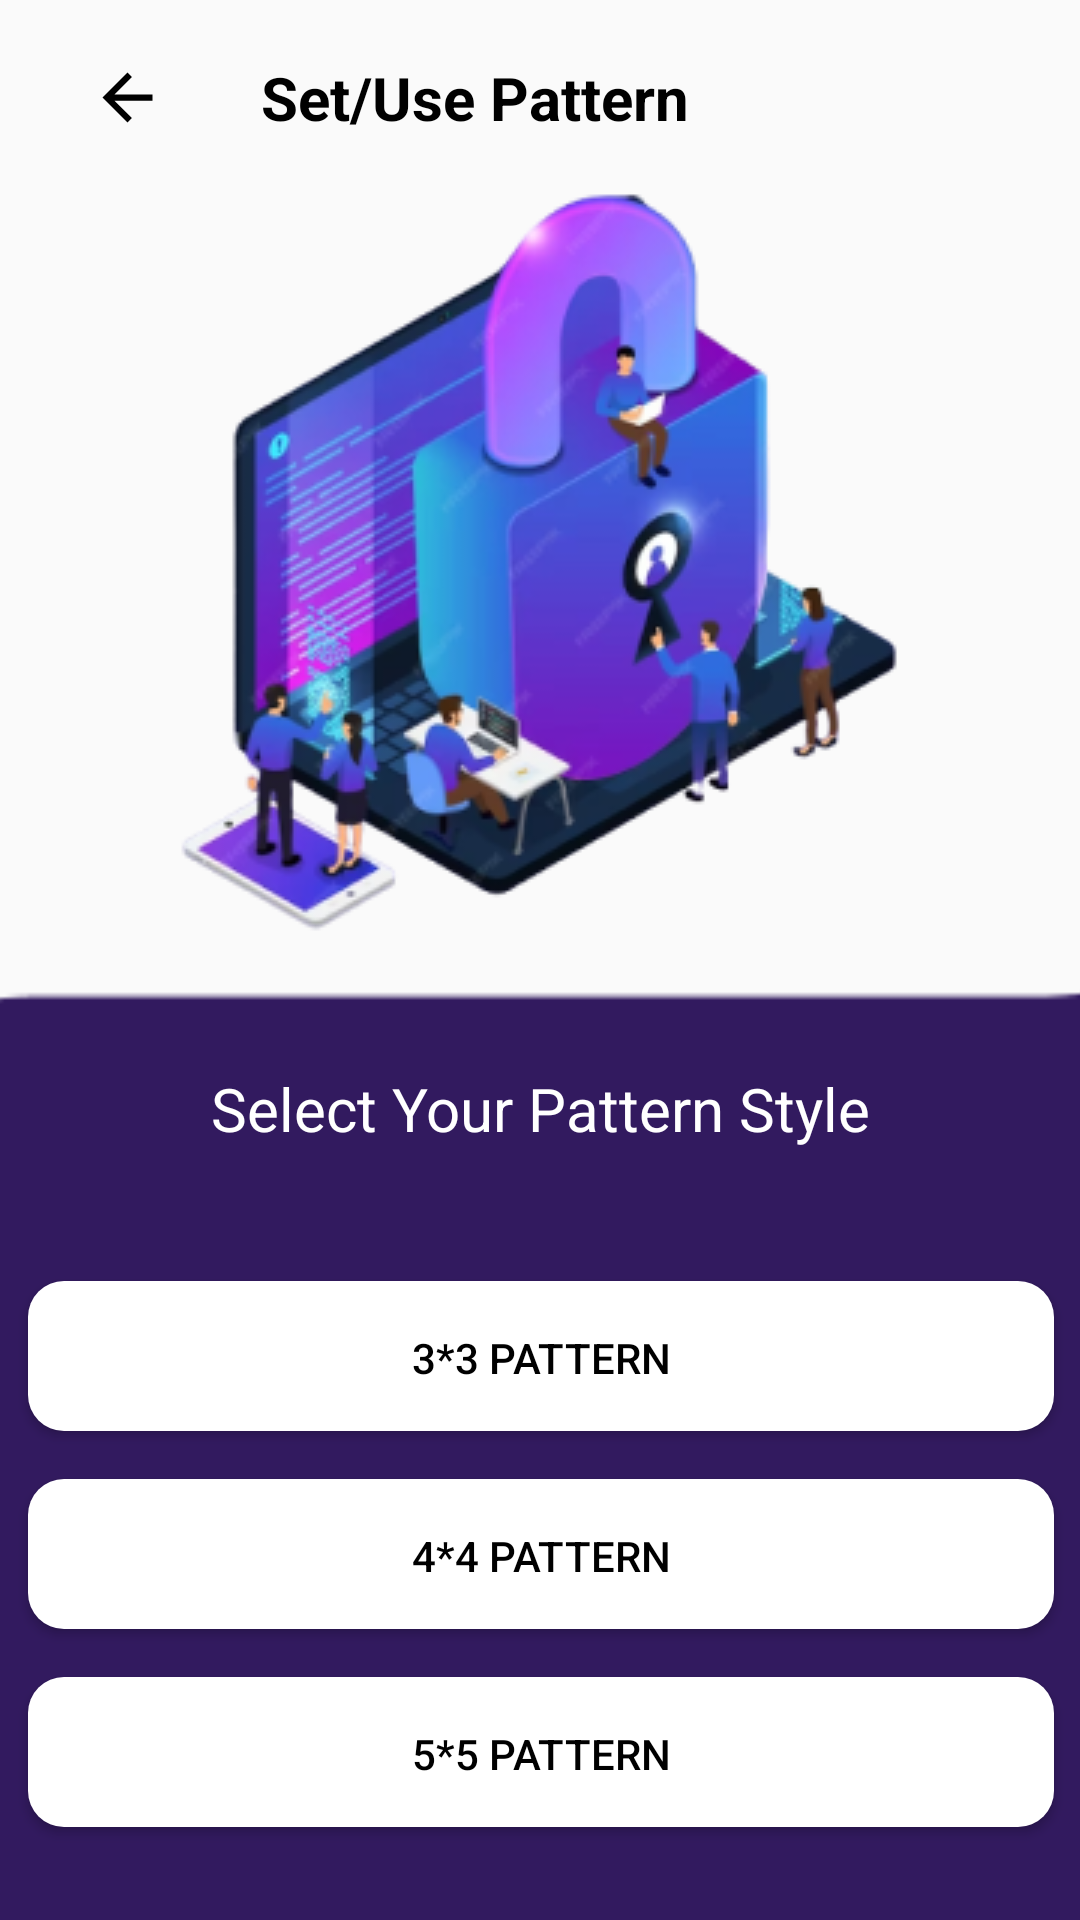

Where icons sit on this 1080 × 1920 app screen, as (x1, y1, x2, y2):
arrow back: (102, 72, 153, 123)
